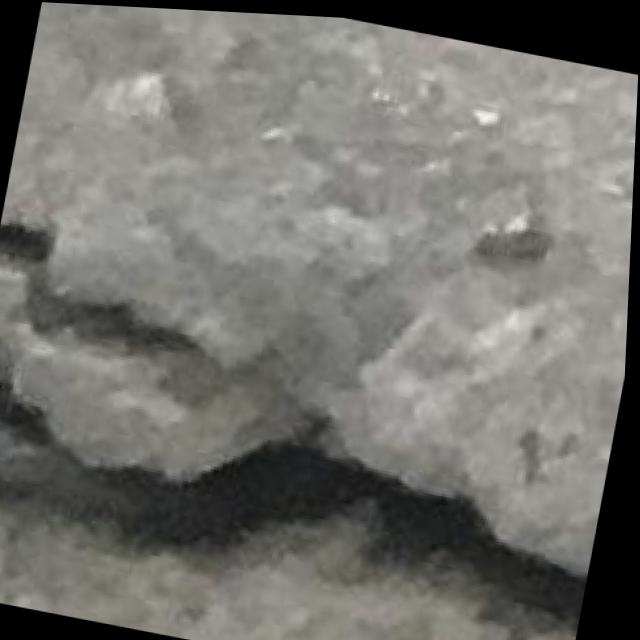Crack: (0, 357, 610, 640), (0, 204, 247, 390)
